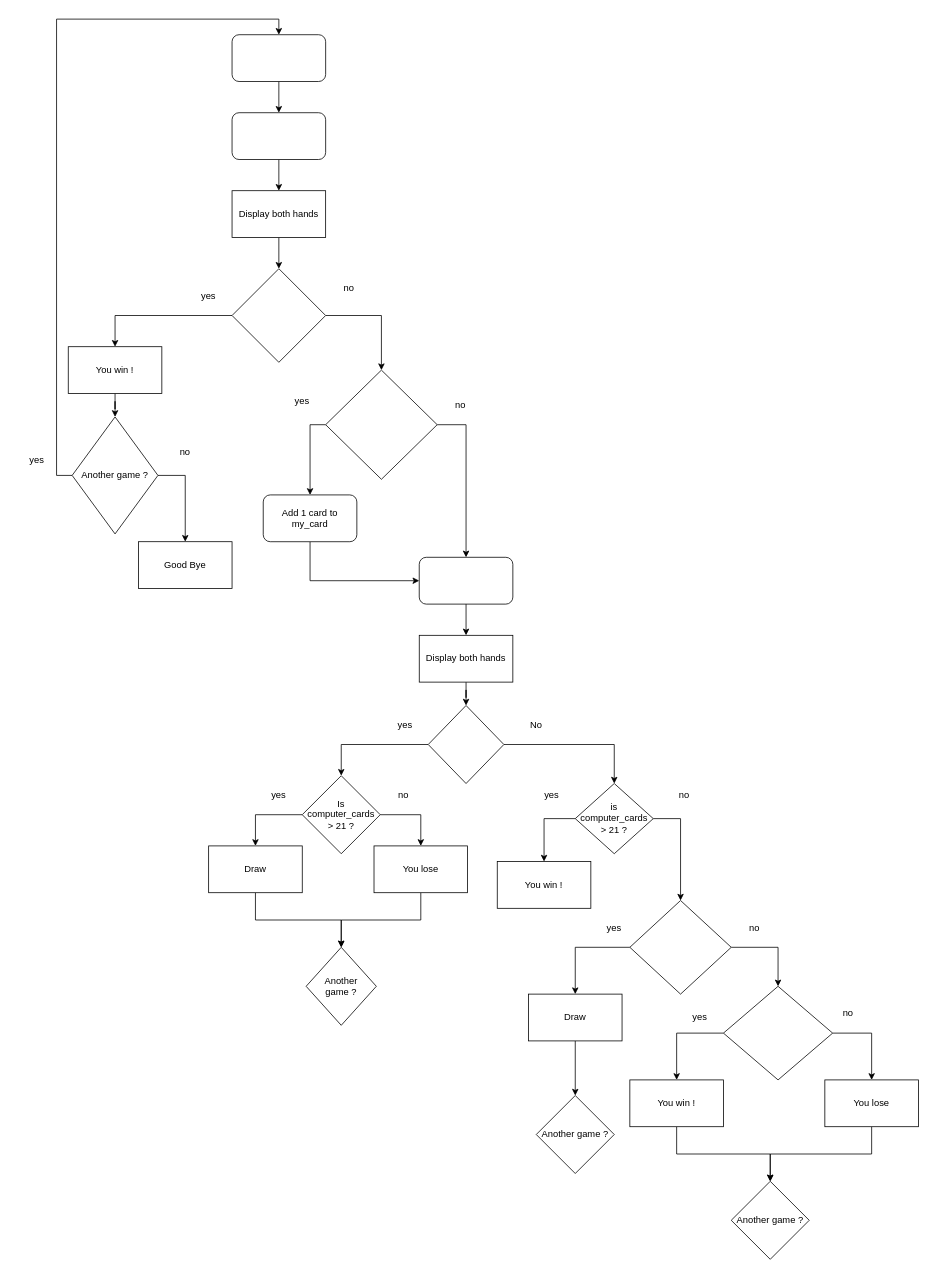
Some shapes in this 932 by 1273 pixel diagram are drawn without their labels. The shapes that lost their labels are listed below. From the top down, each one's box as (x1, y1, x2, y2) in pixels, then its label:
(231, 34, 326, 82): Add 2 cards to my_cards
(231, 112, 326, 160): Add 1 card to computer_cards
(231, 268, 326, 362): Does my_cards equal 21 ?
(325, 369, 437, 479): Draw another card ?
(418, 557, 513, 604): Add 1 card to computer_card
(427, 705, 504, 784): Is my_cards > 21 ?
(629, 900, 731, 994): is my_cards = computer_cards ?
(723, 986, 833, 1080): Is my_cards > computer_cards ?
